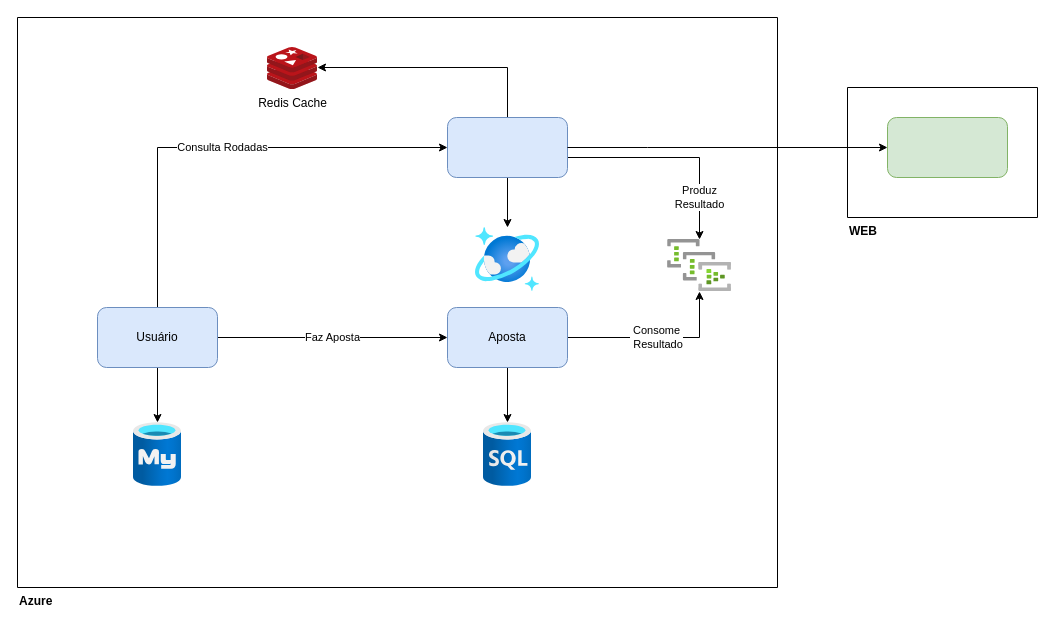
Some shapes in this 1055 by 626 pixel diagram are drawn without their labels. Each missing label, with the centre of its shape:
Informações do Tempo: point (947, 147)
Jogos: point (507, 147)
